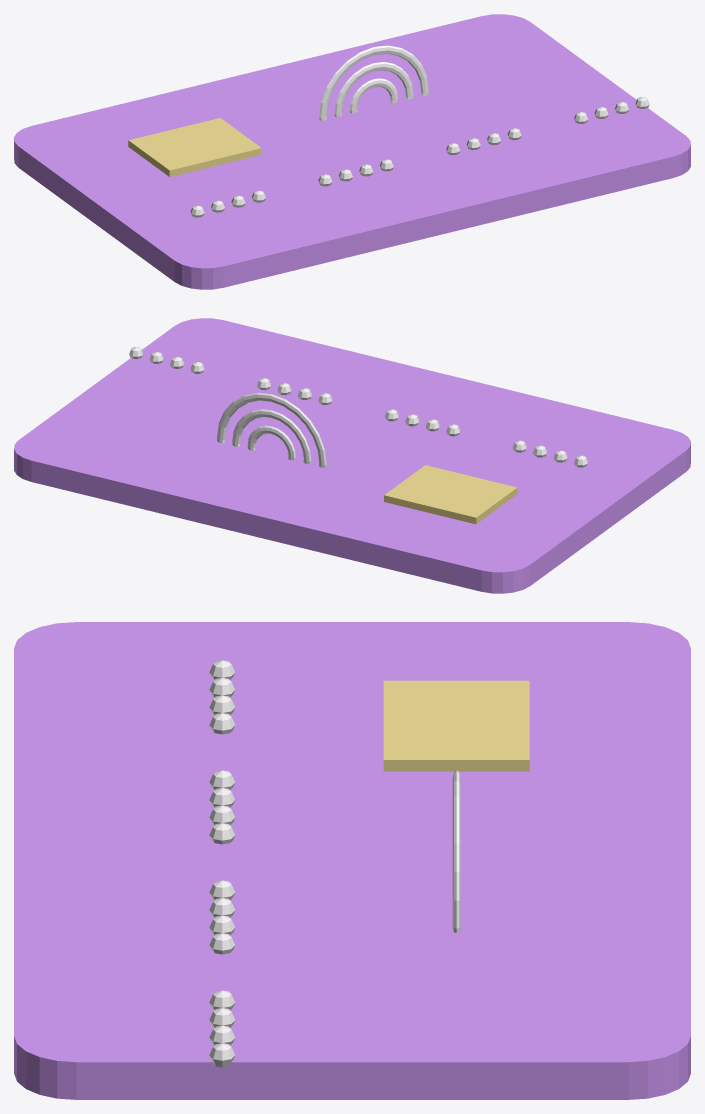
File: payment-card.glb
3 renders of one model, top to bottom at view 1: azimuth 30°, elevation 25°; view 2: azimuth 150°, elevation 25°; view 3: azimuth 270°, elevation 25°, orthographic. The views are drawn at different scales.
Visible parts, largest first — view 1: Payment_Card, EMV_Chip, Contactless_Arc_2, Contactless_Arc_1, Contactless_Arc_0; view 2: Payment_Card, EMV_Chip, Contactless_Arc_2, Contactless_Arc_1, Contactless_Arc_0; view 3: Payment_Card, EMV_Chip, Contactless_Arc_2.
Part boxes in pixels (x1=…): Payment_Card: x1=14, y1=14, x2=690, y2=289; EMV_Chip: x1=128, y1=118, x2=261, y2=176; Contactless_Arc_2: x1=319, y1=45, x2=428, y2=120; Contactless_Arc_1: x1=334, y1=62, x2=413, y2=116; Contactless_Arc_0: x1=350, y1=78, x2=398, y2=113; Payment_Card: x1=14, y1=318, x2=690, y2=593; EMV_Chip: x1=384, y1=465, x2=517, y2=524; Contactless_Arc_2: x1=217, y1=392, x2=326, y2=467; Contactless_Arc_1: x1=232, y1=409, x2=311, y2=464; Contactless_Arc_0: x1=247, y1=425, x2=295, y2=460; Payment_Card: x1=14, y1=622, x2=690, y2=1099; EMV_Chip: x1=383, y1=680, x2=529, y2=771; Contactless_Arc_2: x1=452, y1=770, x2=460, y2=932.
Bounding box in the file's own units: 2.02 × 0.43 × 1.3.
